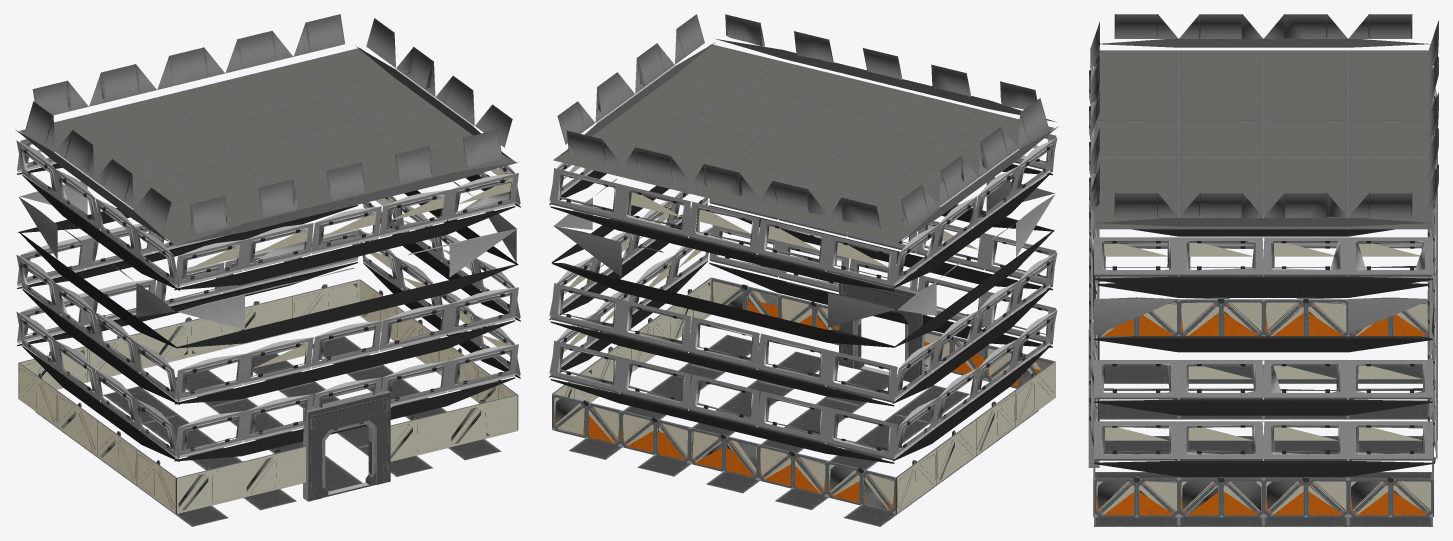
The model's file is sc-office-mid-lod1.glb.
The picture shows the model from 3 angles, left to right: view 1: azimuth 30°, elevation 25°; view 2: azimuth 150°, elevation 25°; view 3: azimuth 270°, elevation 25°; orthographic projection. The views are drawn at different scales.
Parts seen in each view (by area): view 1: sc-office-mid; view 2: sc-office-mid; view 3: sc-office-mid.
Boxes of the visible parts, <box> form: sc-office-mid: <box>15,14,520,526</box>; sc-office-mid: <box>549,14,1058,526</box>; sc-office-mid: <box>1088,14,1438,526</box>.
Bounding box in the file's own units: 20.57 × 18.02 × 16.57.
6 materials, 5 textured.
